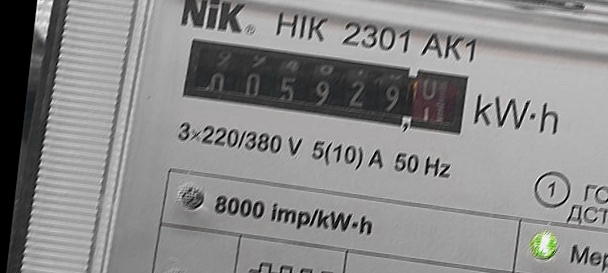0: (243, 69, 265, 99), (206, 67, 230, 92), (420, 76, 441, 101)
2: (346, 76, 369, 111)
5: (278, 73, 299, 103)
9: (310, 76, 334, 108), (382, 81, 404, 115), (214, 48, 234, 68)
screen: (176, 32, 478, 144)
